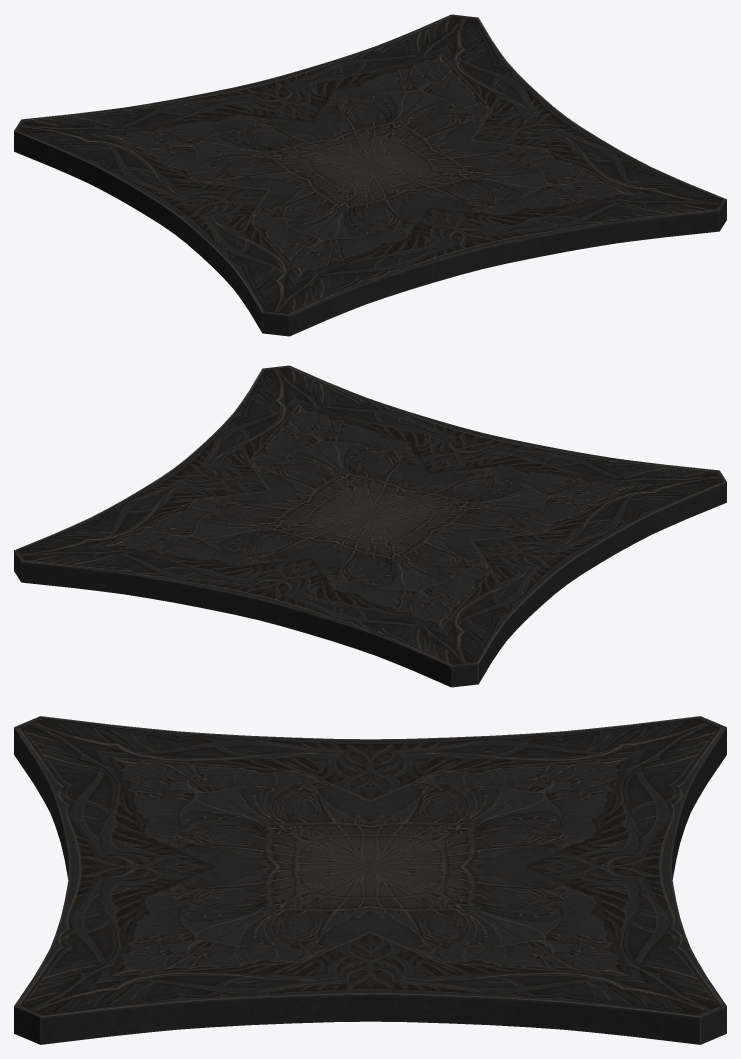
The model's file is bg_rad_kamen_floor09_sm_cjy.obj.
The picture shows the model from 3 angles, top to bottom: view 1: azimuth 30°, elevation 25°; view 2: azimuth 150°, elevation 25°; view 3: azimuth 270°, elevation 25°; orthographic projection. The views are drawn at different scales.
Visible parts, largest first — view 1: bg_rad_kamen_floor09_sm_cjy_0; view 2: bg_rad_kamen_floor09_sm_cjy_0; view 3: bg_rad_kamen_floor09_sm_cjy_0.
Boxes of the visible parts, x1=… form: bg_rad_kamen_floor09_sm_cjy_0: x1=14, y1=14, x2=726, y2=336; bg_rad_kamen_floor09_sm_cjy_0: x1=14, y1=365, x2=726, y2=687; bg_rad_kamen_floor09_sm_cjy_0: x1=14, y1=716, x2=726, y2=1044.
Bounding box in the file's own units: 5.65 × 0.241 × 5.65.
Materials: 1 (1 with a texture image).
